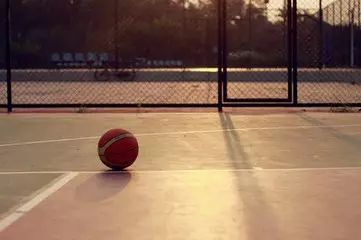ball: (96, 127, 141, 172)
